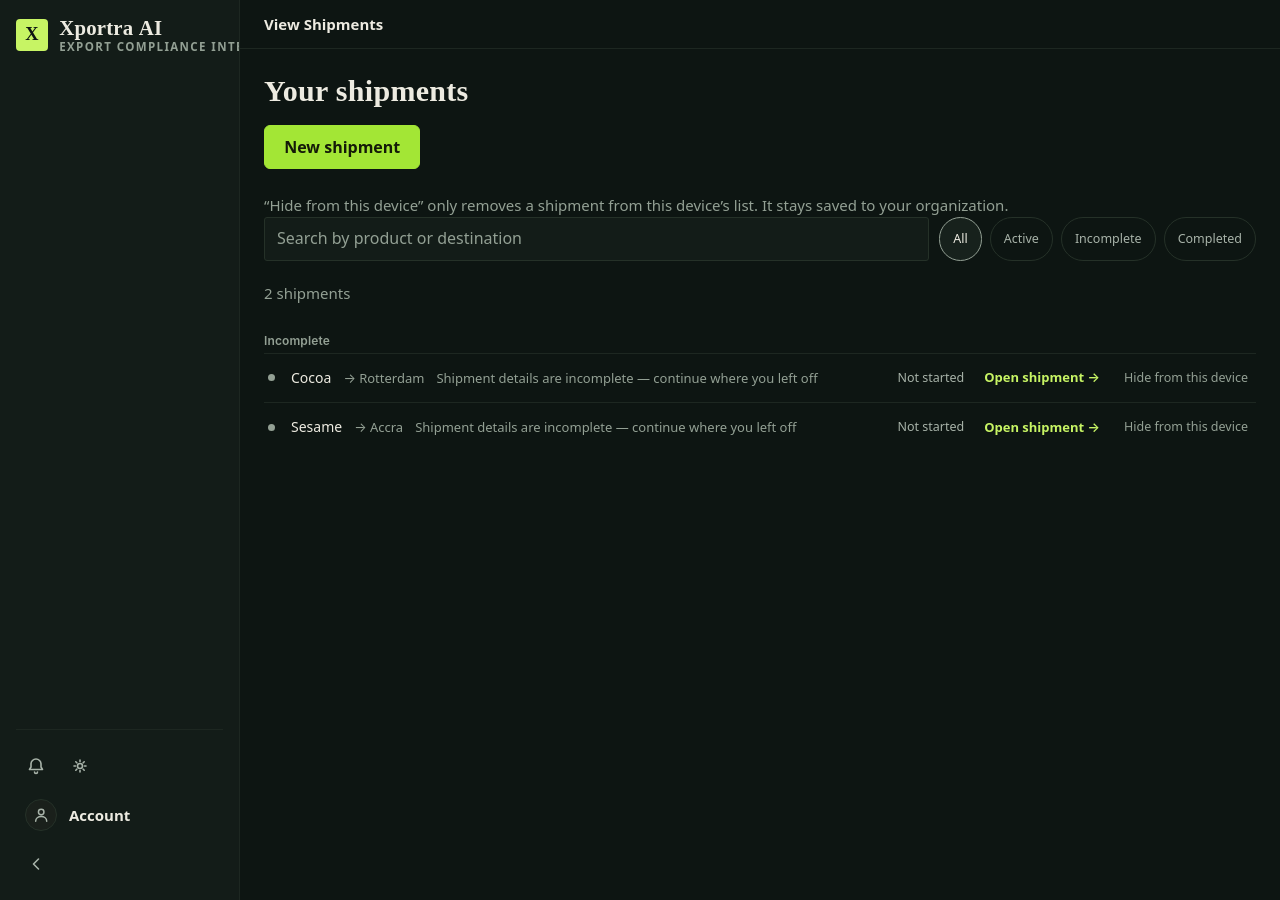
Test case: ShipmentsPage archive › searches and chips, then clears back to the full archive
Expected: the link "Cocoa" is shown, [291,367,331,389]
Type "sesame" into the search field with placeholder "Search by product or destination". click: x=597, y=239
box: [264,217,929,261]
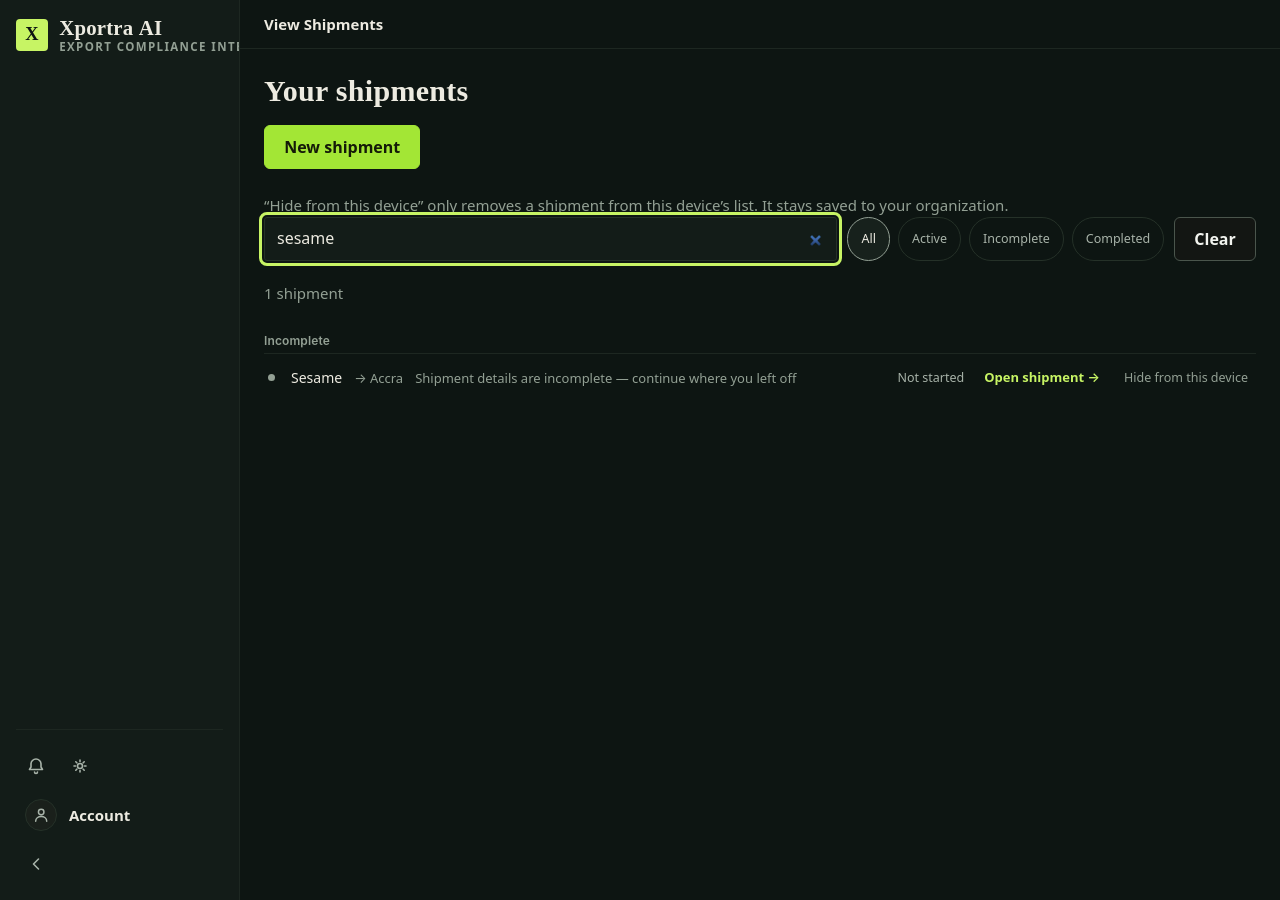
Now the message reads "1 shipment", box [264,283,343,303]
Now the link "Cocoa" is gone
Click the button "Completed". click: x=1118, y=239
box: [1072,217,1164,261]
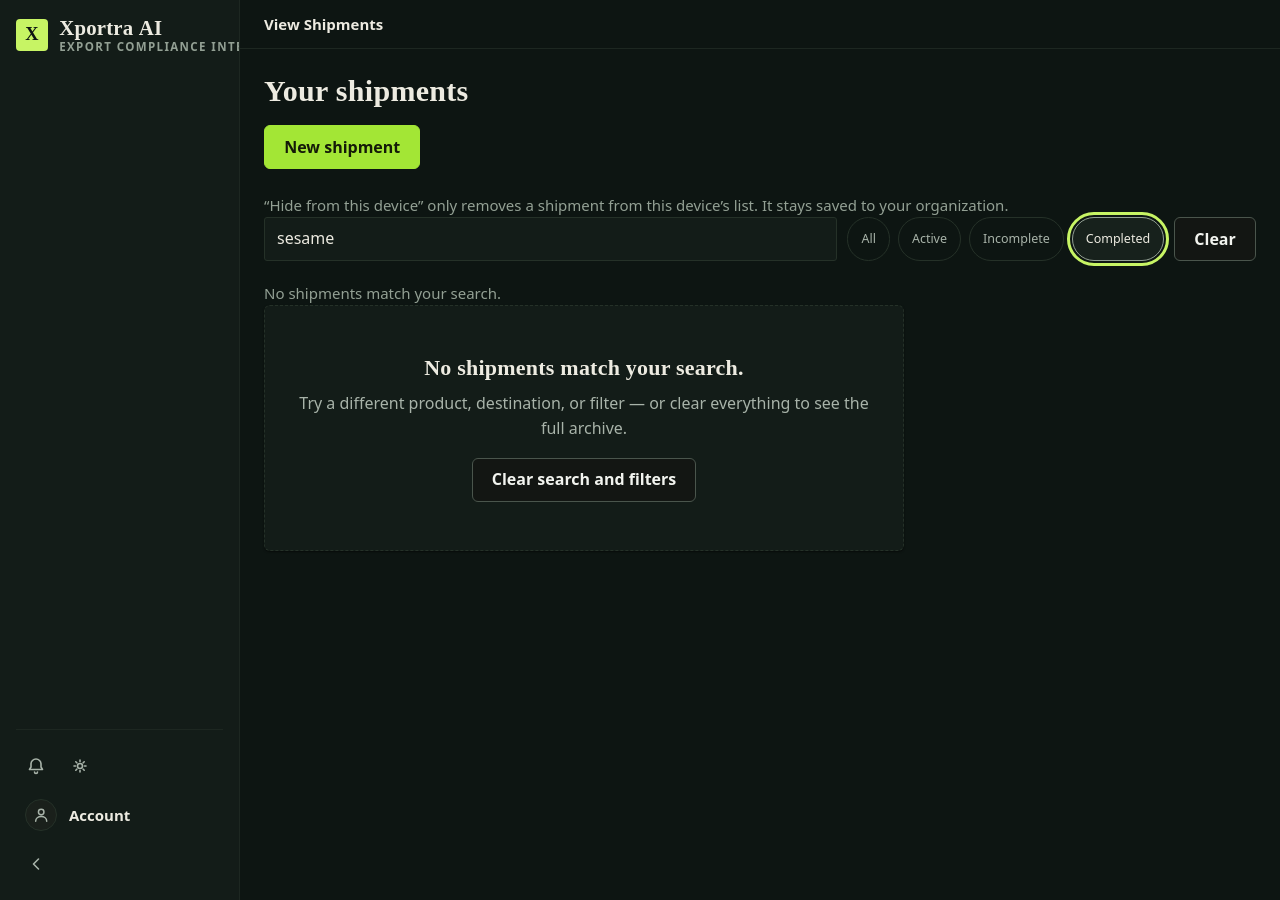
Now the message reads "No shipments match your search.", box [264,283,501,303]
Now the heading "No shipments match your search." is shown, box [424,355,744,380]
Click the button "Clear search and filters". click: x=584, y=480
box: [472,458,696,502]
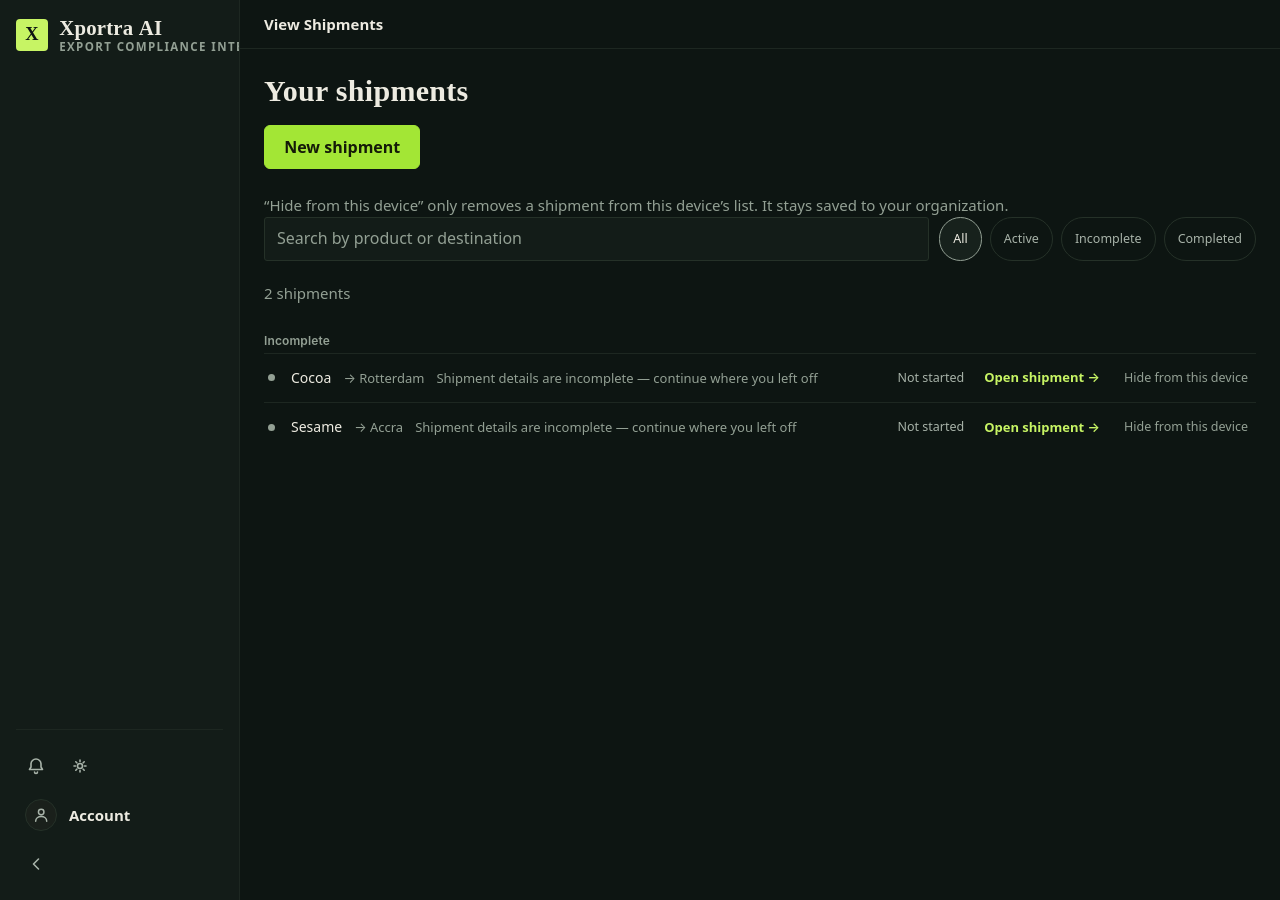
Now the message reads "2 shipments", box [264,283,350,303]
